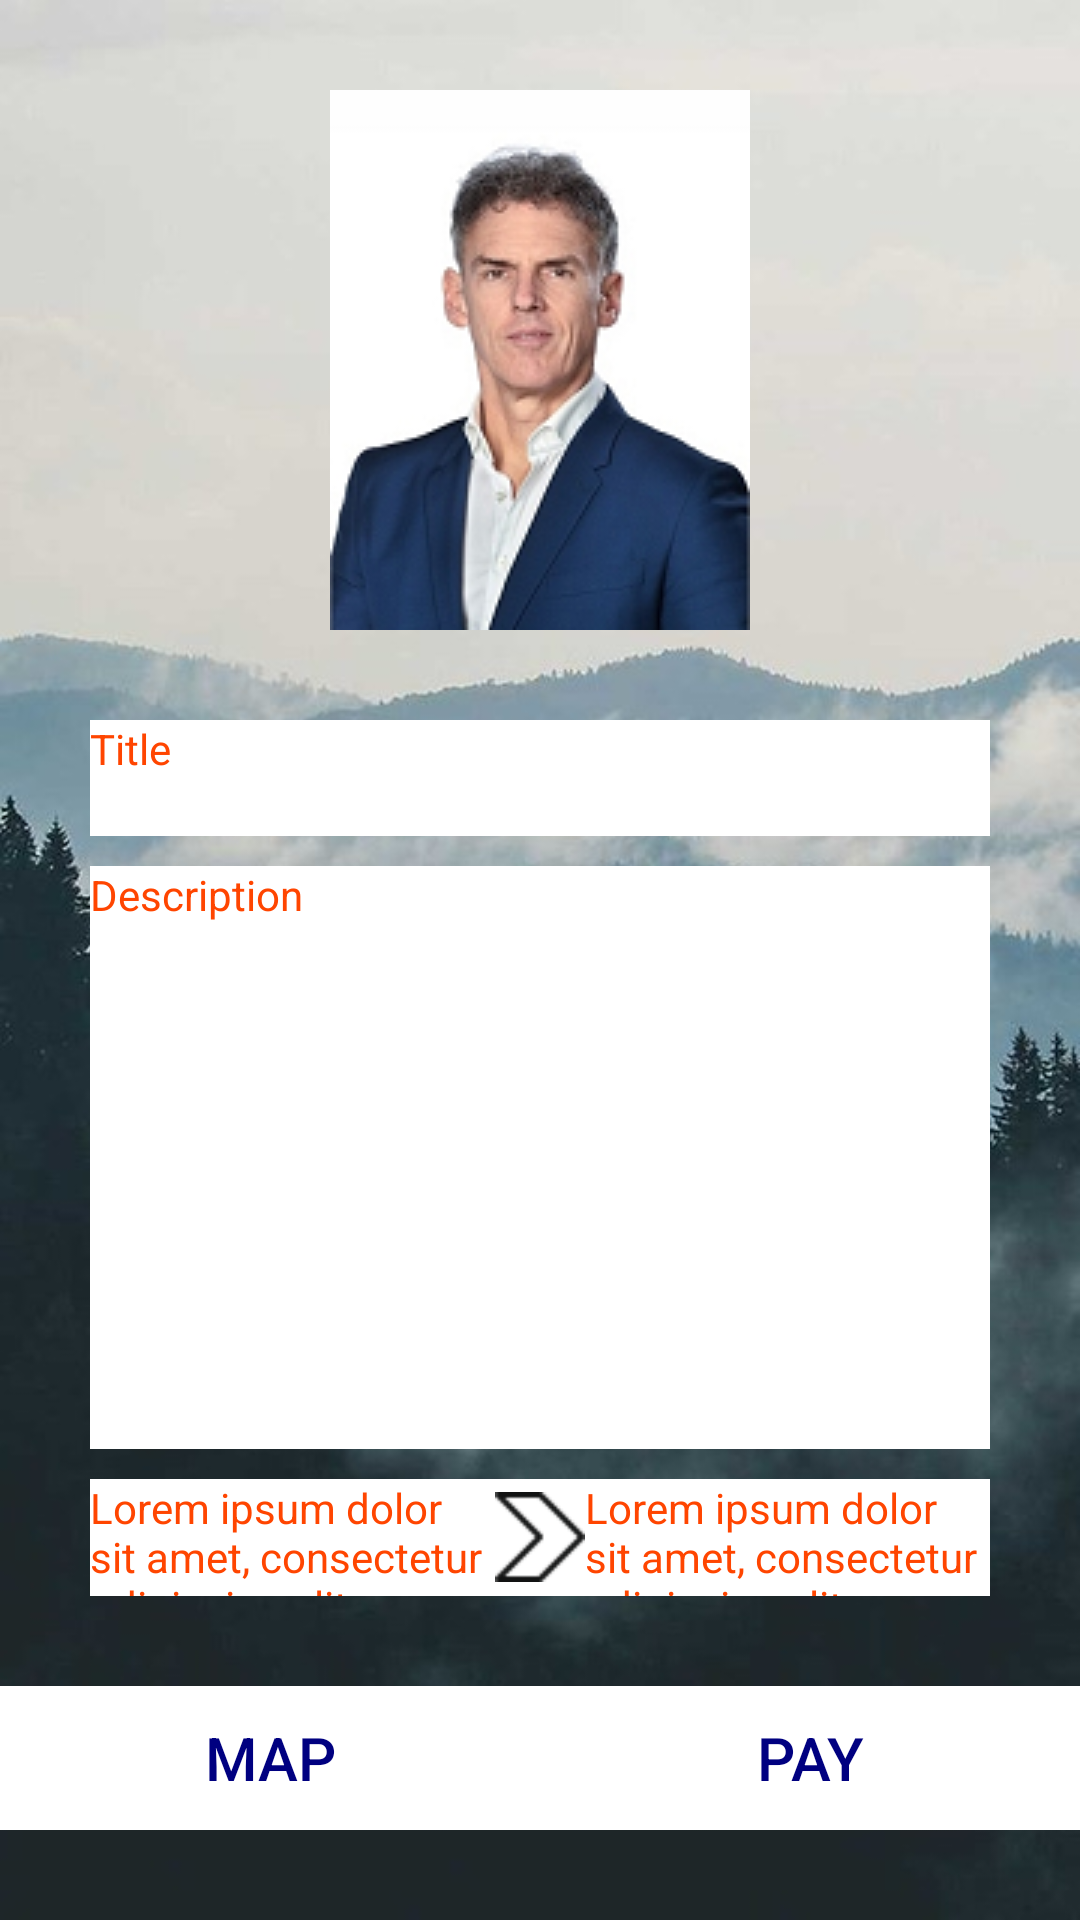

Locate icon controls on the screen. Image size 1080 x 1920, boxes as [x1=x1, y1=y1, x2=x2, y2=y2].
place arrow: [x1=495, y1=1492, x2=585, y2=1582]
